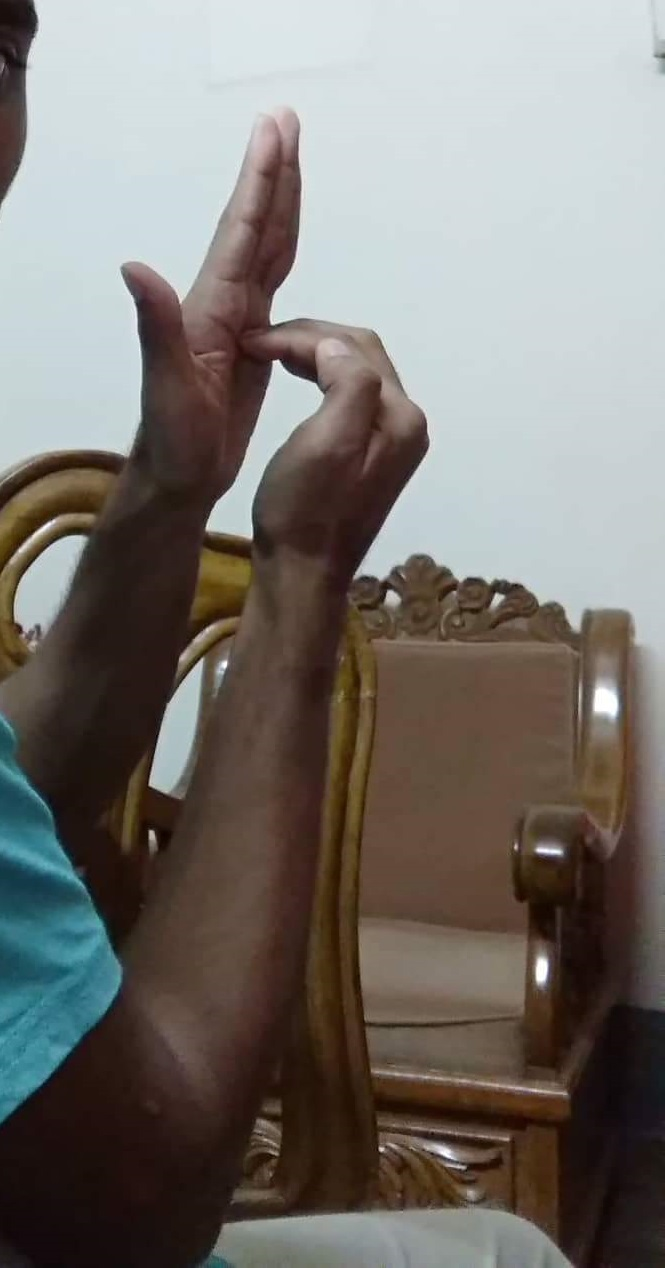ga: (127, 109, 416, 572)
